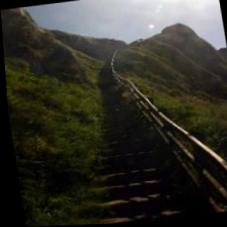Bench: (82, 118, 191, 225)
